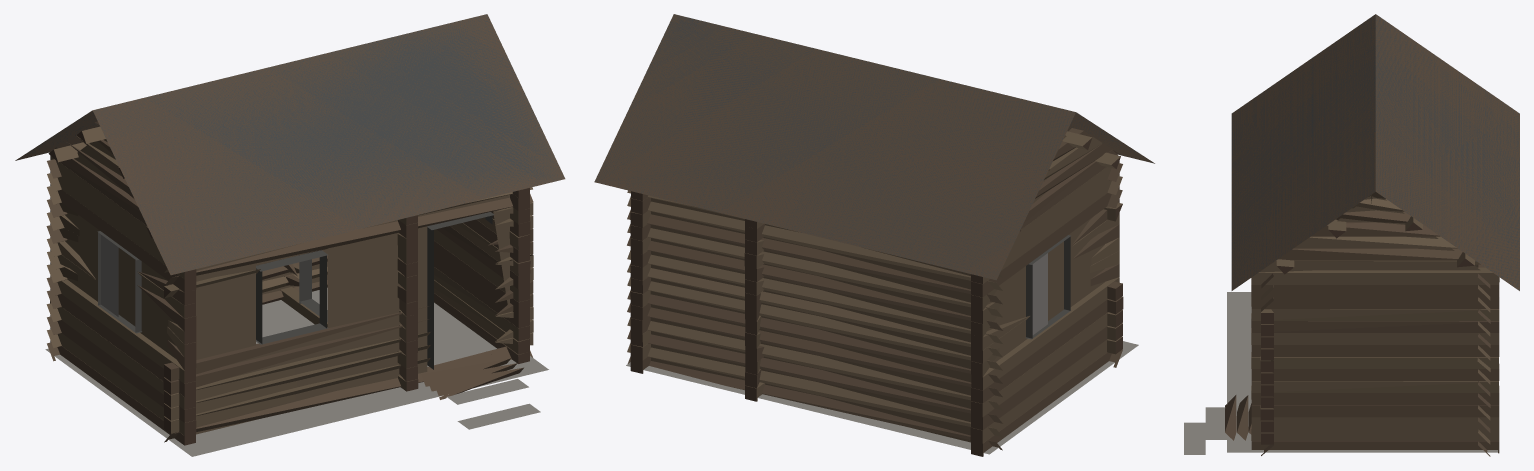
File: log-cabin.zfix-v1.lod2.glb
3 views of the same model, side by side, from view 1: azimuth 30°, elevation 25°; view 2: azimuth 150°, elevation 25°; view 3: azimuth 270°, elevation 25° (orthographic). The views are drawn at different scales.
Parts seen in each view (by area): view 1: Base_Wood1b_0; view 2: Base_Wood1b_0; view 3: Base_Wood1b_0.
Part boxes in pixels (x1=…): Base_Wood1b_0: x1=15, y1=14, x2=565, y2=456; Base_Wood1b_0: x1=594, y1=14, x2=1154, y2=456; Base_Wood1b_0: x1=1184, y1=14, x2=1519, y2=456.
Bounding box in the file's own units: 6.3 × 4.72 × 5.03.
